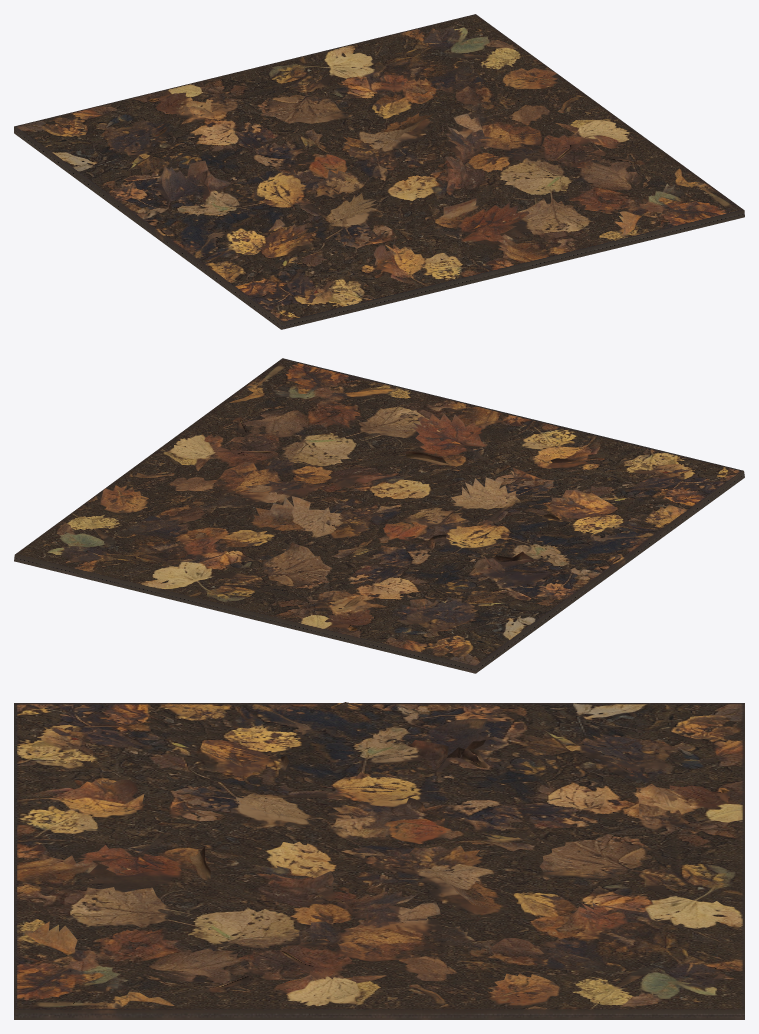
The model's file is leaves.glb.
3 views of the same model, one above another, from view 1: azimuth 30°, elevation 25°; view 2: azimuth 150°, elevation 25°; view 3: azimuth 270°, elevation 25° (orthographic). The views are drawn at different scales.
Size of the model in its own units: 0.9678 by 0.0479 by 0.9707.
Materials: 1 (1 with a texture image).
